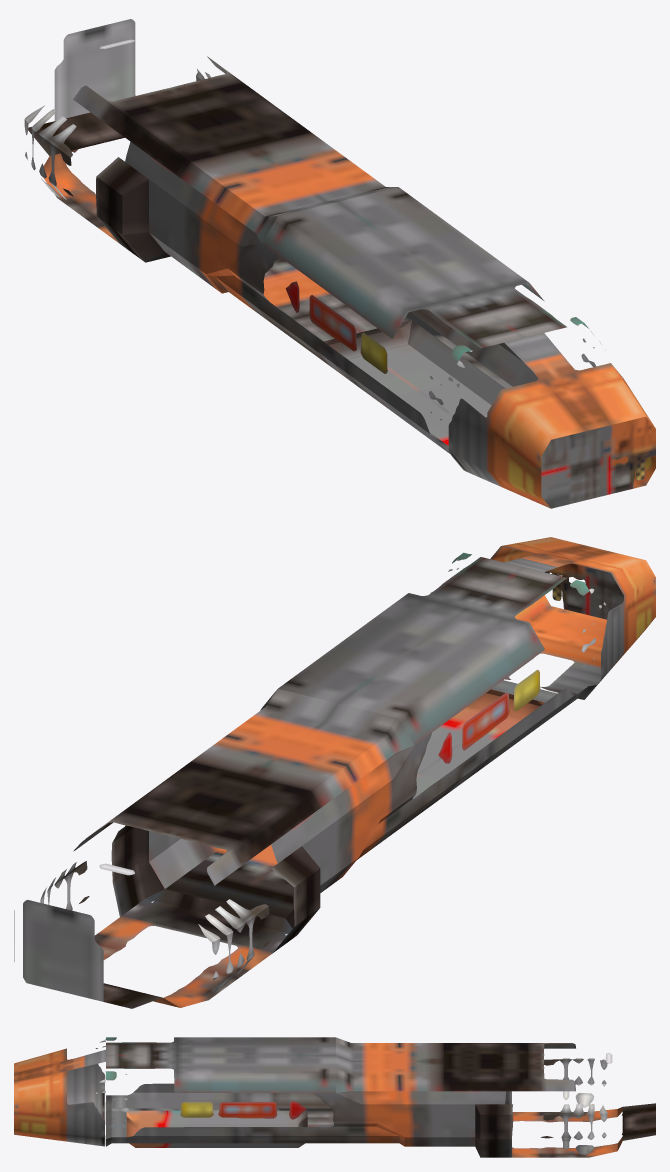
The model's file is LOD0-UVFlip.obj.
3 views of the same model, one above another, from view 1: azimuth 30°, elevation 25°; view 2: azimuth 150°, elevation 25°; view 3: azimuth 270°, elevation 25° (orthographic). The views are drawn at different scales.
Visible parts, largest first — view 1: PulsarGunUV; view 2: PulsarGunUV; view 3: PulsarGunUV.
Boxes of the visible parts, left/top/right/bottom form: PulsarGunUV: left=24, top=19, right=655, bottom=508; PulsarGunUV: left=14, top=537, right=655, bottom=1008; PulsarGunUV: left=14, top=1037, right=655, bottom=1157.
Bounding box in the file's own units: 3.61 × 2.47 × 17.85.
